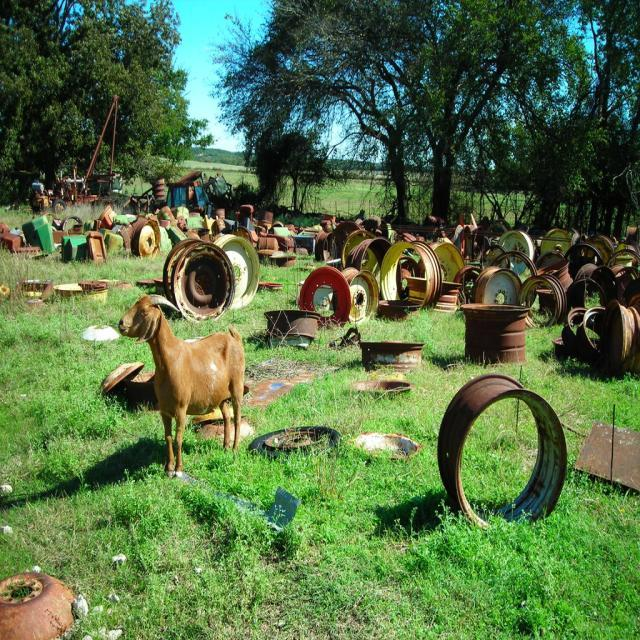Goat: (117, 293, 246, 479)
